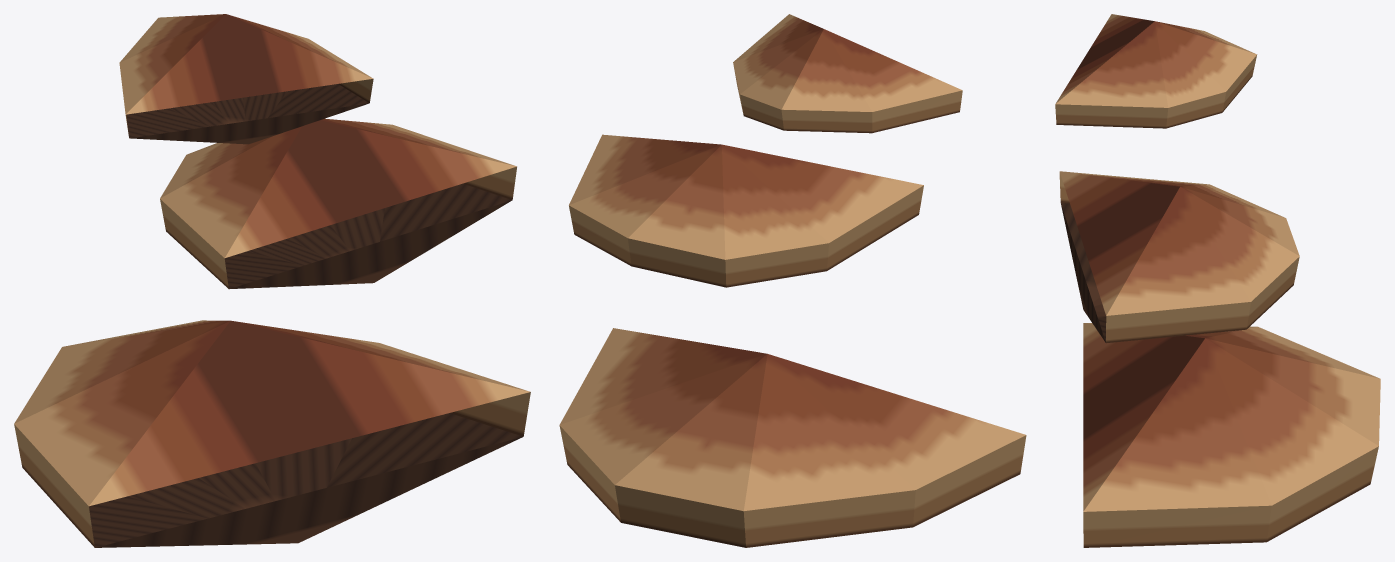
Rendered from SM_VG16_ShelfFungusGroup.fbx.
3 views of the same model, side by side, from view 1: azimuth 30°, elevation 25°; view 2: azimuth 150°, elevation 25°; view 3: azimuth 270°, elevation 25° (orthographic). The views are drawn at different scales.
Parts seen in each view (by area): view 1: VG16_Fungi; view 2: VG16_Fungi; view 3: VG16_Fungi.
Boxes of the visible parts, x1,y1,x2,y2 form: VG16_Fungi: [14, 14, 530, 547]; VG16_Fungi: [559, 14, 1026, 547]; VG16_Fungi: [1055, 14, 1380, 547].
Size of the model in its own units: 0.4786 by 0.5258 by 0.3378.
